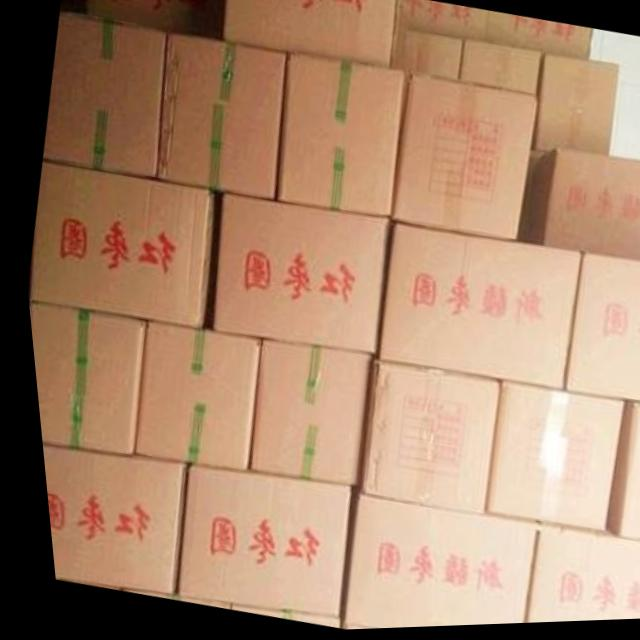box: (370, 226, 575, 394), (23, 160, 217, 329), (205, 194, 386, 358), (327, 488, 527, 631), (165, 465, 340, 619), (386, 73, 534, 243), (349, 361, 491, 518), (154, 32, 284, 201), (34, 444, 178, 595), (474, 385, 615, 539), (273, 55, 403, 218), (39, 12, 167, 176), (124, 322, 254, 472), (239, 340, 364, 488), (23, 301, 141, 457), (519, 153, 640, 265), (554, 255, 640, 407), (221, 0, 395, 70), (514, 528, 638, 626), (529, 55, 617, 160), (388, 0, 487, 70), (596, 406, 640, 546), (85, 0, 224, 41), (483, 14, 592, 63), (457, 42, 540, 100), (400, 32, 462, 82)
